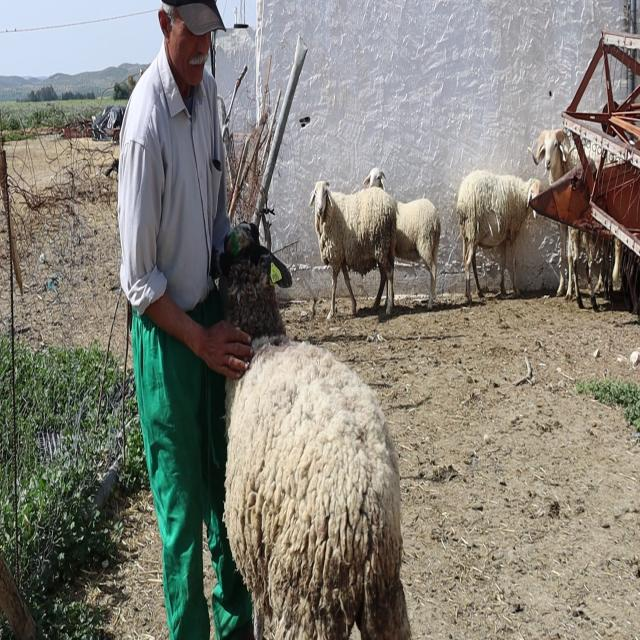Score_5: (213, 223, 410, 639)
